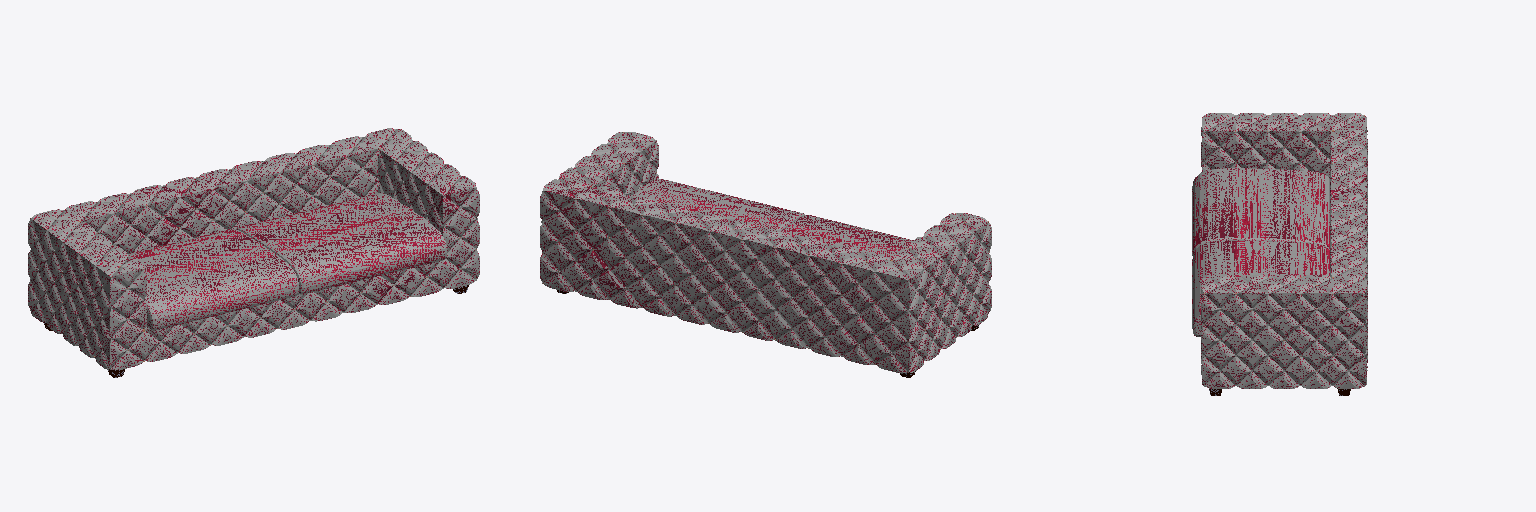
3 views of the same model, side by side, from view 1: azimuth 30°, elevation 25°; view 2: azimuth 150°, elevation 25°; view 3: azimuth 270°, elevation 25° (orthographic).
Parts seen in each view (by area): view 1: group_3_ID26, group_4_ID35; view 2: group_3_ID26, group_4_ID35; view 3: group_4_ID35, group_3_ID26.
Boxes of the visible parts, box(x1,y1,x2,y2) form: group_3_ID26: box(236, 193, 446, 294); group_4_ID35: box(128, 229, 298, 330); group_3_ID26: box(634, 179, 804, 230); group_4_ID35: box(781, 215, 912, 259); group_4_ID35: box(1192, 168, 1329, 255); group_3_ID26: box(1192, 240, 1329, 336).
Bounding box in the file's own units: 21.48 × 5.96 × 8.77.
6 materials, 2 textured.